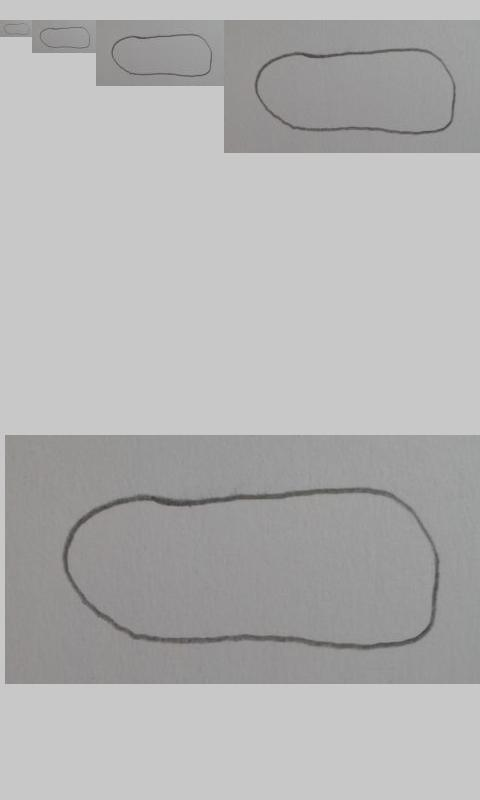chip: (62, 487, 440, 653), (255, 47, 456, 135), (111, 33, 212, 78), (39, 26, 91, 49), (3, 23, 31, 35)
